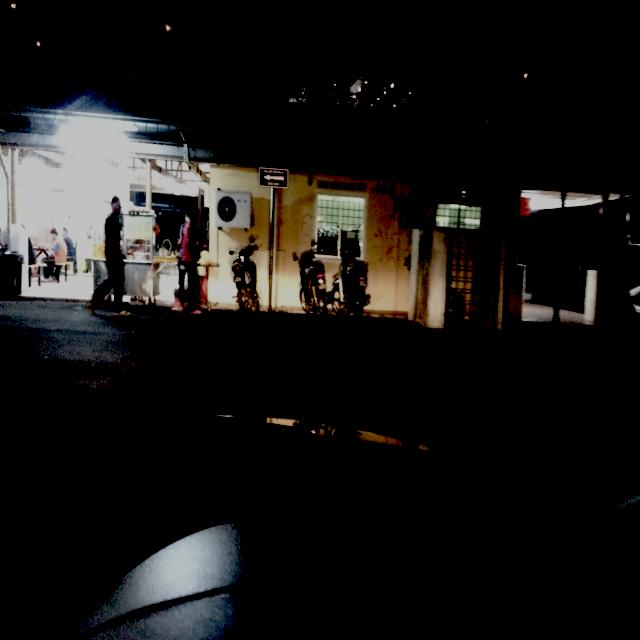Motorbike: (291, 235, 368, 328), (226, 245, 266, 326)
